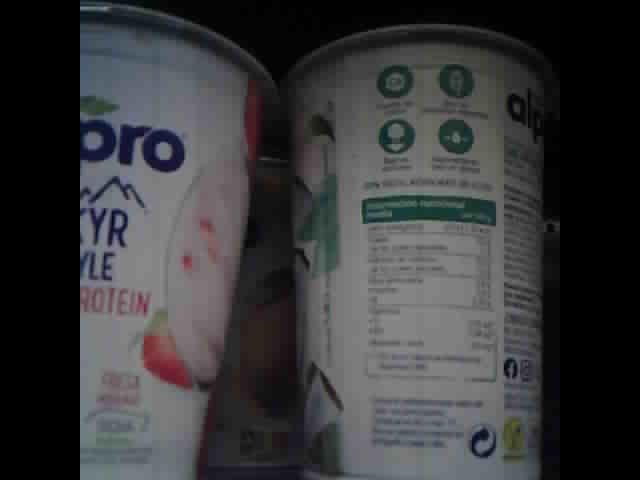alpro: (284, 24, 555, 480), (80, 1, 277, 478)
